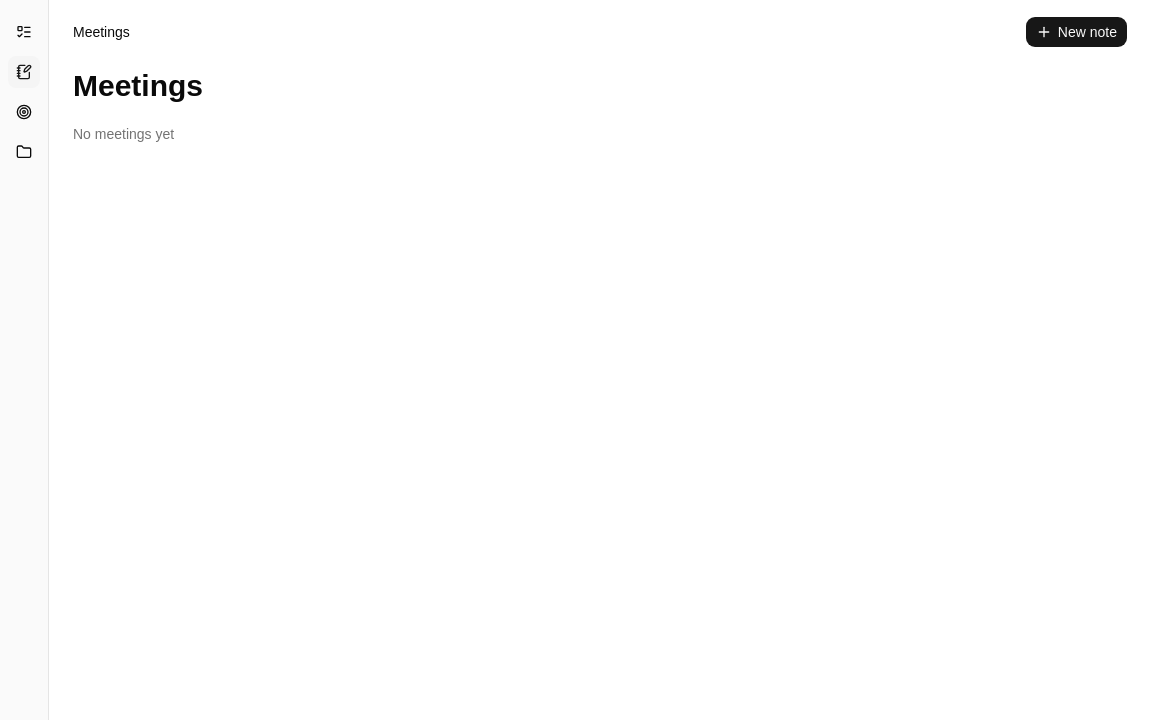
Dragging cards with the pointer › opens the sheet on a click without moving the card
The width and height of the screenshot is (1152, 720).
Click the 1st link named "Work" at (24, 32), box [8,16,40,48]
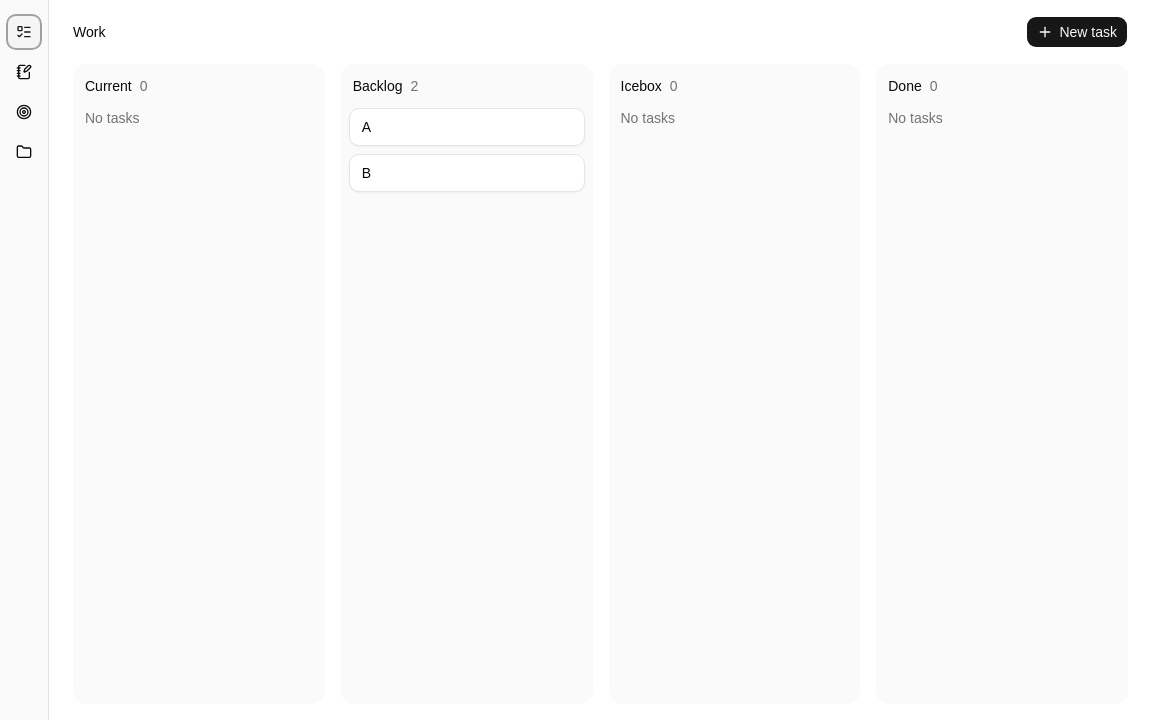
Expected: the button "New task" is shown, [1026,16,1128,48]
Click the button "A" at (467, 127), box [349,108,585,146]
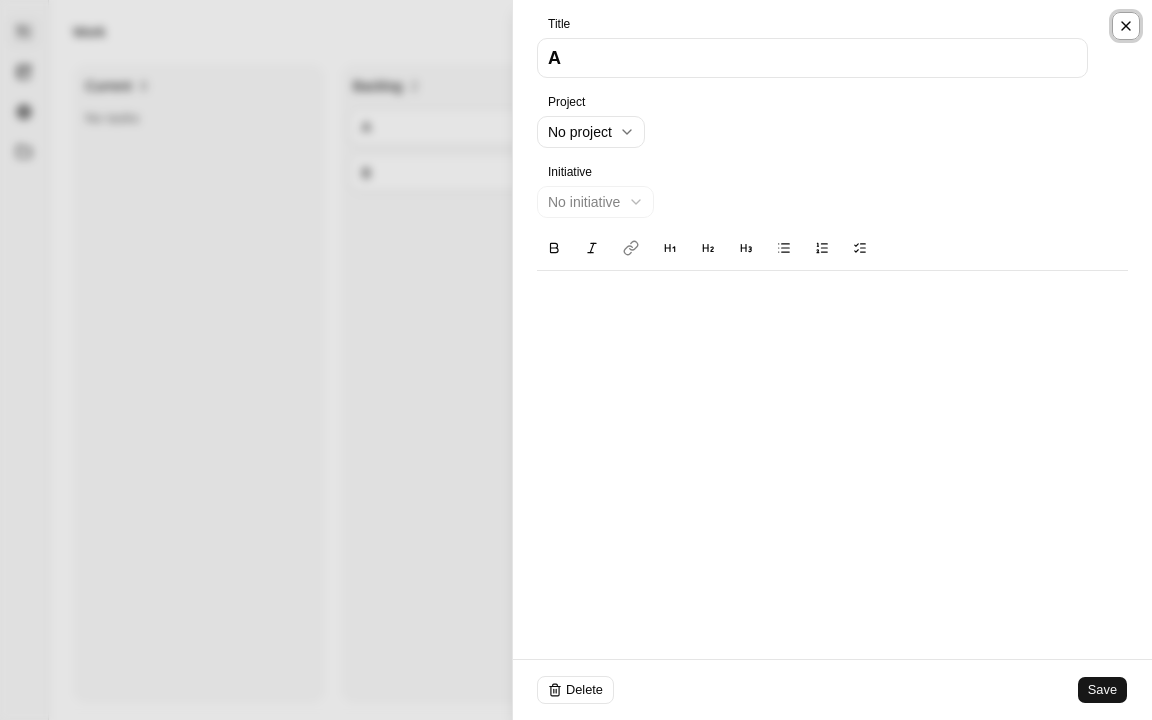
Expected: the dialog "a" is shown, [512,0,1151,719]
